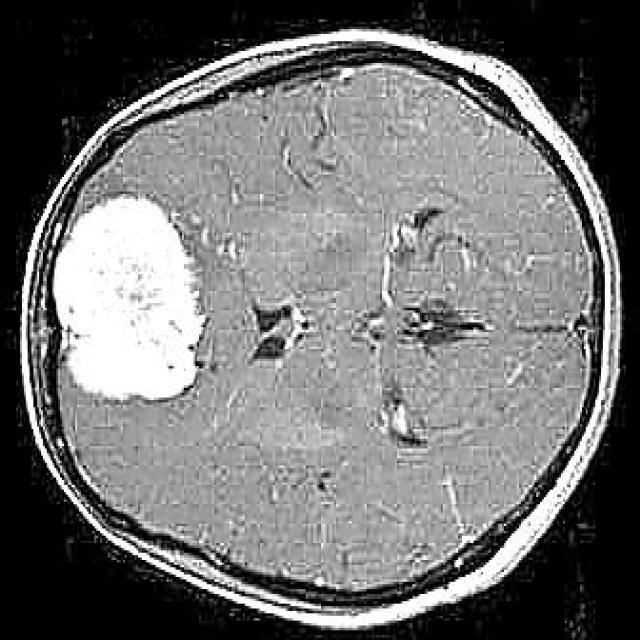tumor: (51, 194, 206, 402)
